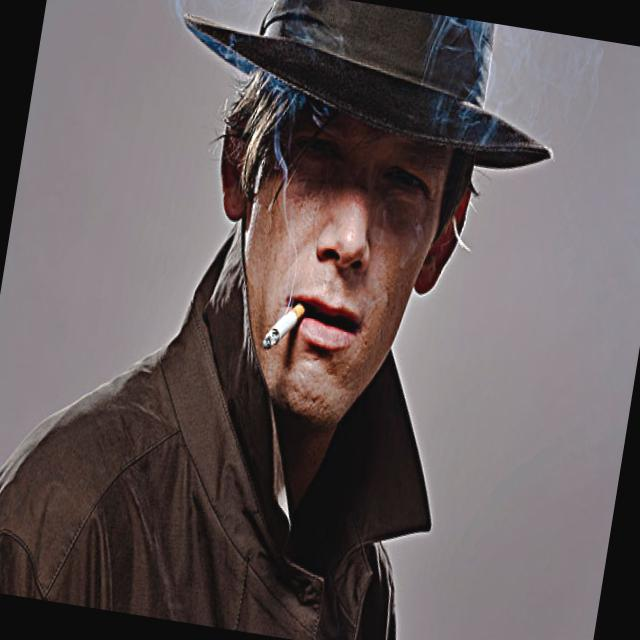cigarette: (260, 298, 305, 358)
